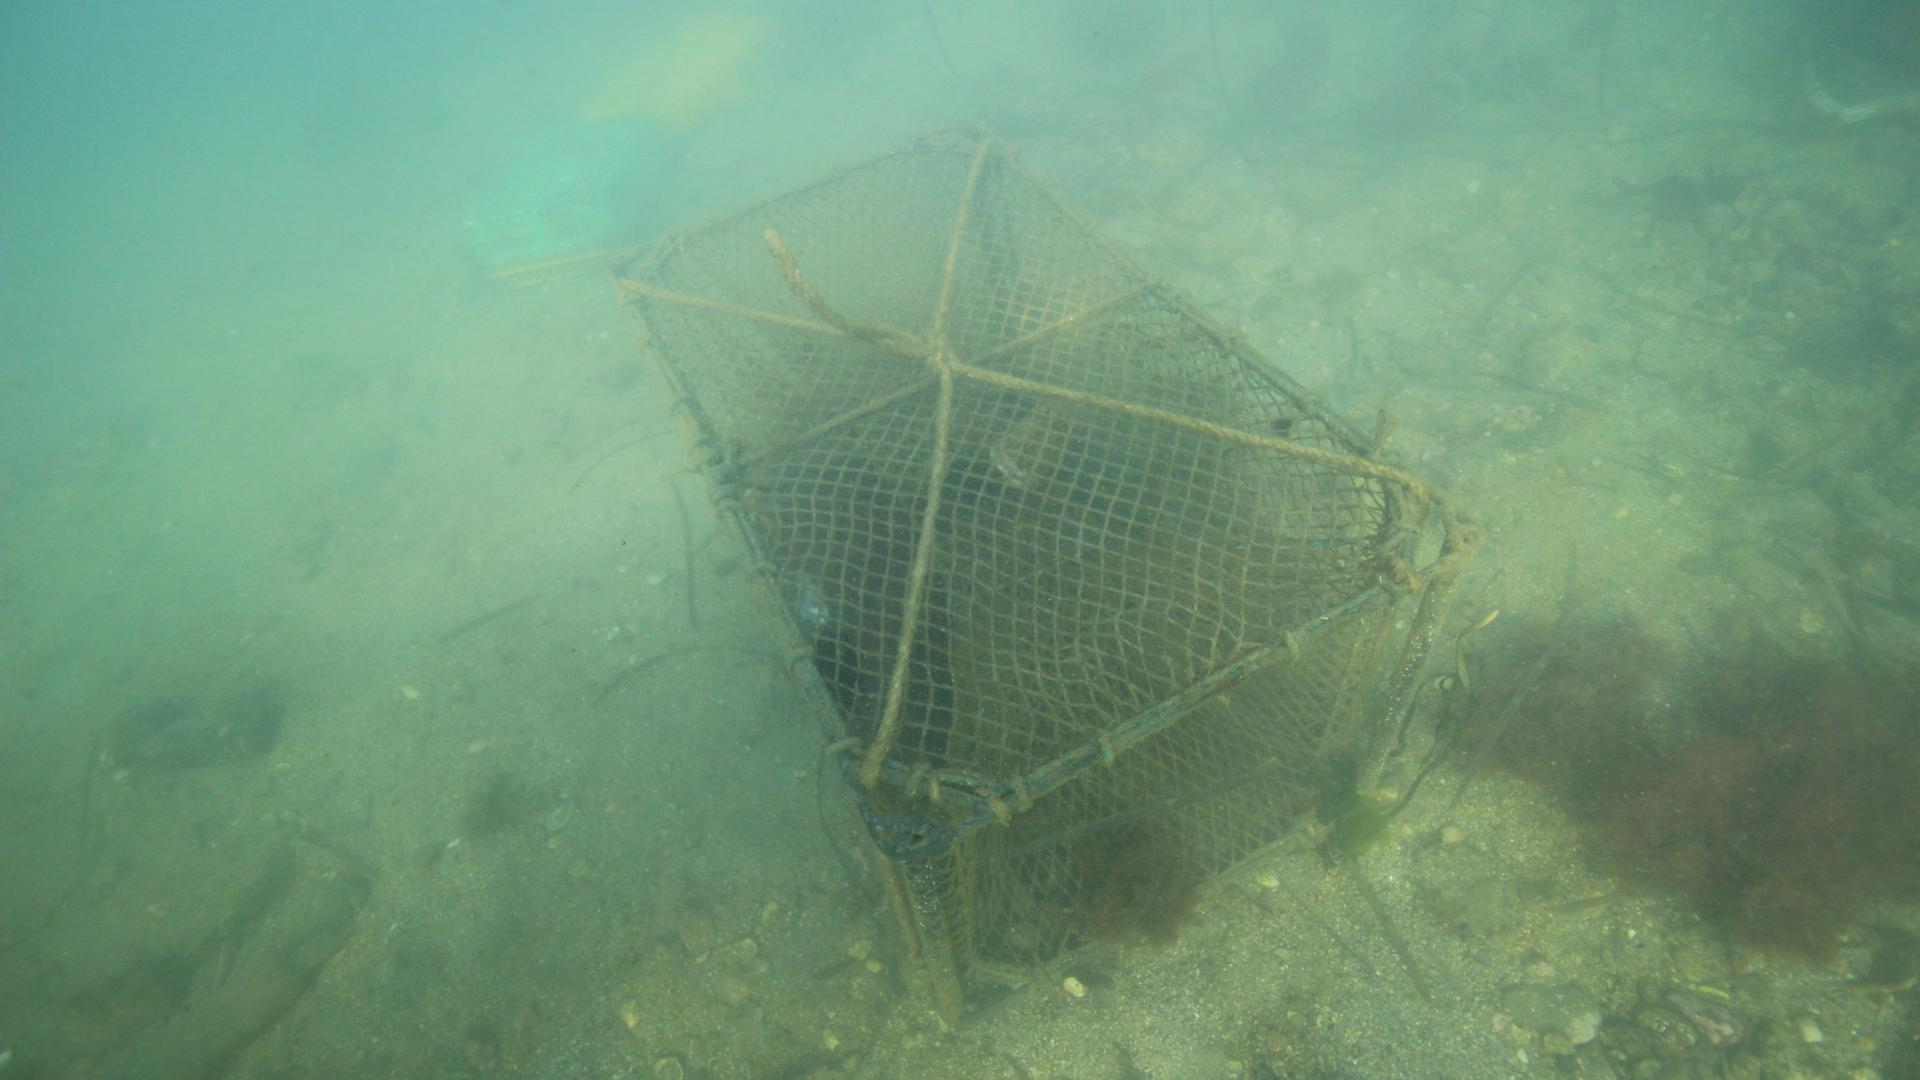rectangular fish trap: (607, 116, 1490, 1031)
